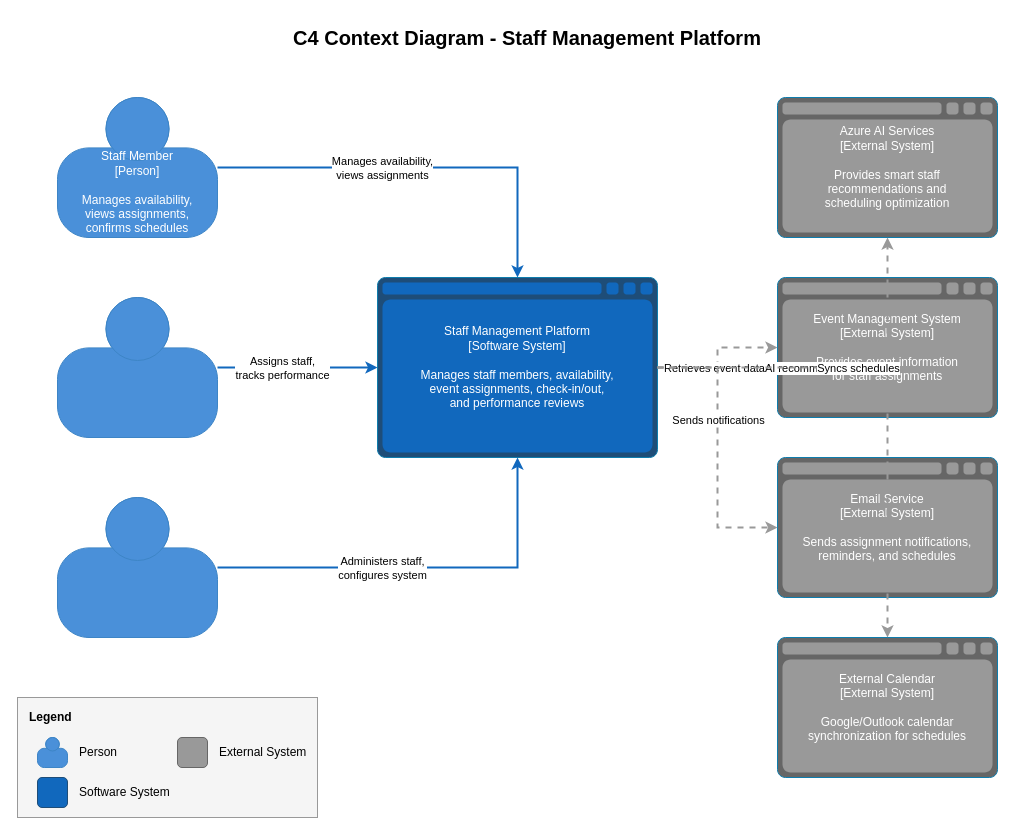
The diagram is 1015 pixels wide and 835 high, and some of its shapes have lost their labels. The centre of each missing label's shape, as x and y in pixels:
Admin [Person] System configuration, staff administration: [137,567]
Manager [Person] Manages staff, assigns to events, tracks performance: [137,367]
